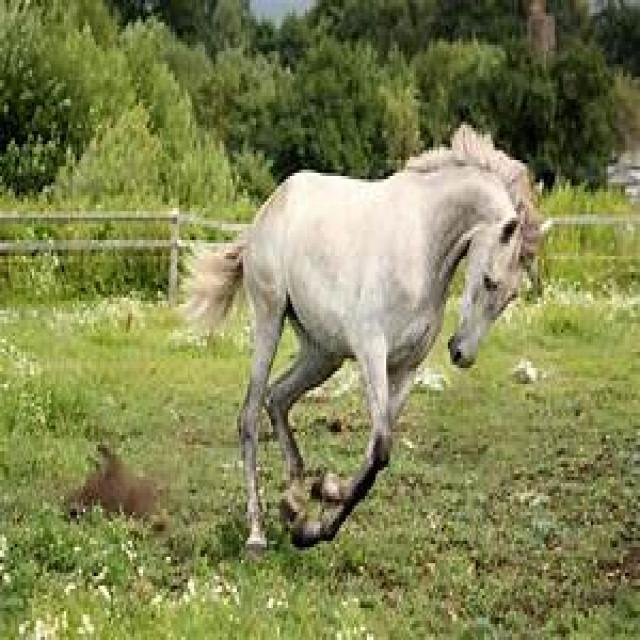horse: (189, 126, 541, 550)
